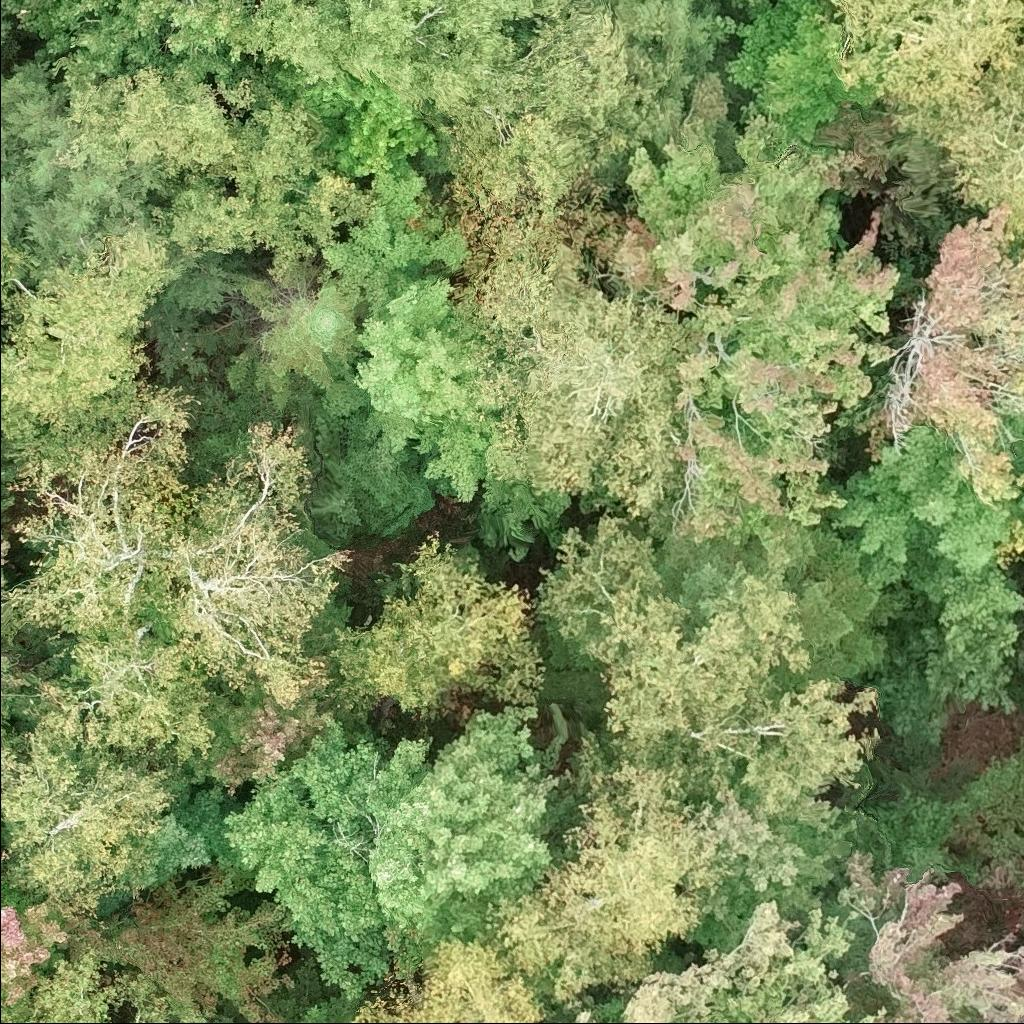crown: (478, 511, 883, 1000), (609, 68, 905, 545), (3, 381, 352, 774), (222, 700, 580, 1001), (454, 205, 697, 534), (818, 421, 1023, 715), (436, 0, 668, 251), (554, 859, 897, 1023), (0, 215, 196, 466), (141, 96, 376, 289), (328, 527, 549, 714), (319, 273, 498, 503), (0, 57, 164, 288), (906, 200, 1023, 505), (0, 708, 177, 902), (98, 869, 296, 1023), (850, 848, 1023, 1023), (58, 64, 277, 199), (336, 0, 563, 123), (827, 0, 1023, 130), (225, 261, 373, 418), (722, 0, 881, 142), (774, 526, 909, 693), (322, 167, 473, 311), (696, 772, 859, 895), (917, 71, 1023, 252), (0, 447, 63, 751), (351, 933, 545, 1023), (186, 679, 336, 795), (164, 0, 354, 90), (0, 876, 103, 1006), (851, 788, 955, 878), (0, 946, 120, 1023), (999, 414, 1023, 468), (0, 33, 8, 73), (144, 1018, 171, 1023), (195, 1022, 208, 1023)
